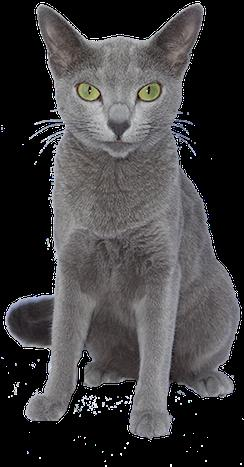rblue: (34, 1, 206, 167)
